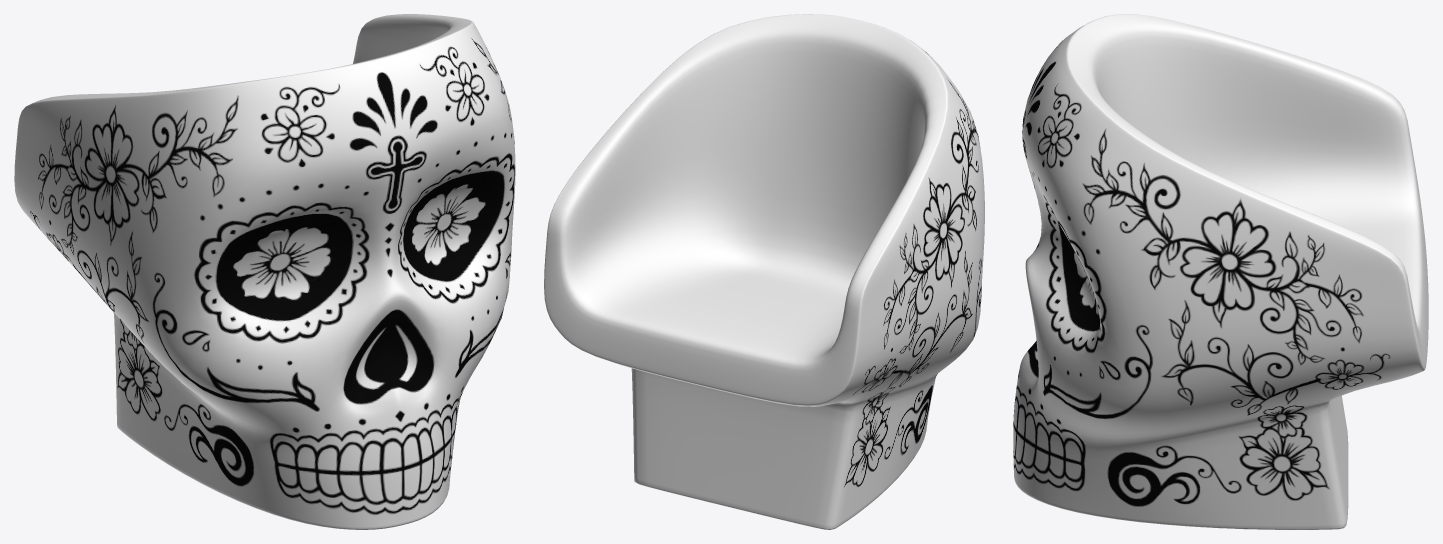
Rendered from Gufram_Jolly_Roger_mat(1).fbx.
The picture shows the model from 3 angles, left to right: view 1: azimuth 30°, elevation 25°; view 2: azimuth 150°, elevation 25°; view 3: azimuth 270°, elevation 25°; orthographic projection. The views are drawn at different scales.
Visible parts, largest first — view 1: Gufram_Jolly_Roger_mat1; view 2: Gufram_Jolly_Roger_mat1; view 3: Gufram_Jolly_Roger_mat1.
Part boxes in pixels (bbox=[...]): Gufram_Jolly_Roger_mat1: bbox=[14, 14, 515, 529]; Gufram_Jolly_Roger_mat1: bbox=[544, 14, 984, 529]; Gufram_Jolly_Roger_mat1: bbox=[1013, 14, 1428, 529].
Size of the model in its own units: 73.28 by 75.72 by 84.9.
Materials: 1 (1 with a texture image).
